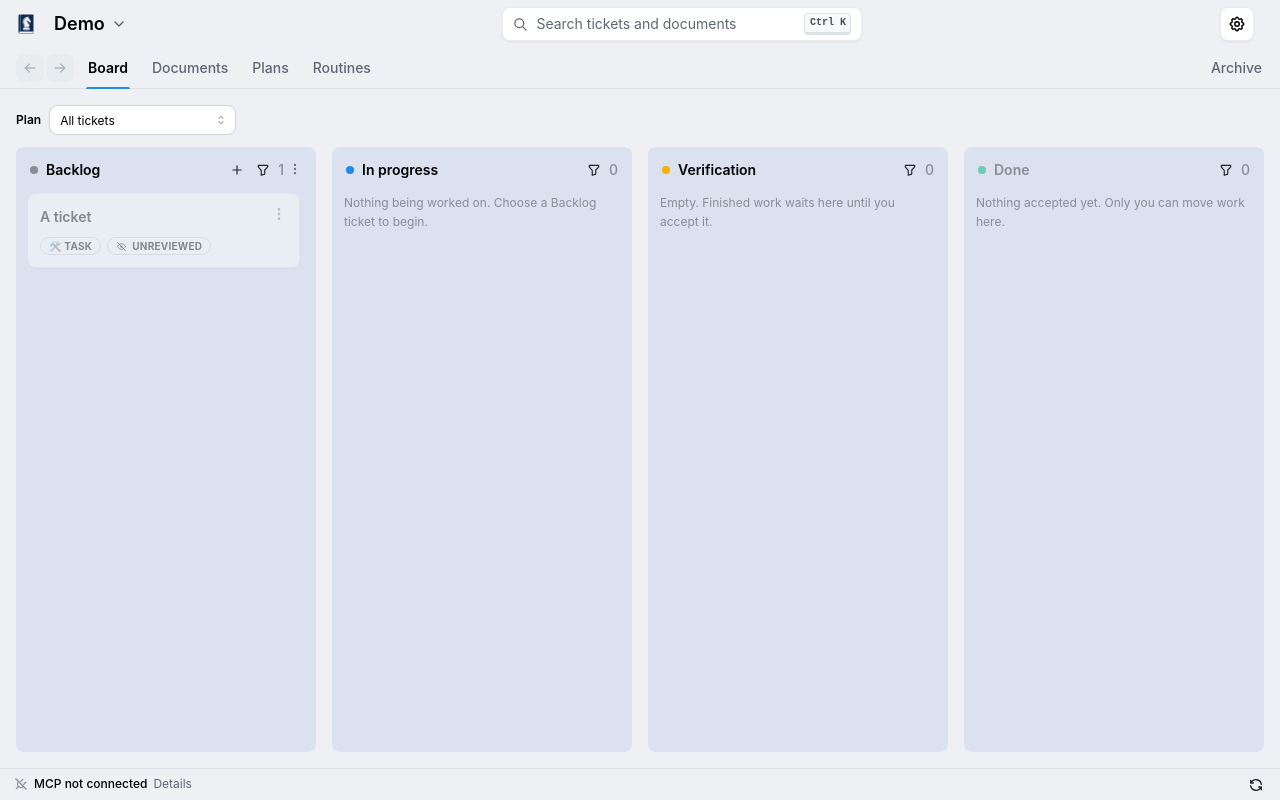
Test: choosing a type › says which one is current, as a choice rather than a completion
The image size is (1280, 800).
Step 1. Click the text "A ticket" → (66, 216), box [40, 208, 91, 225]
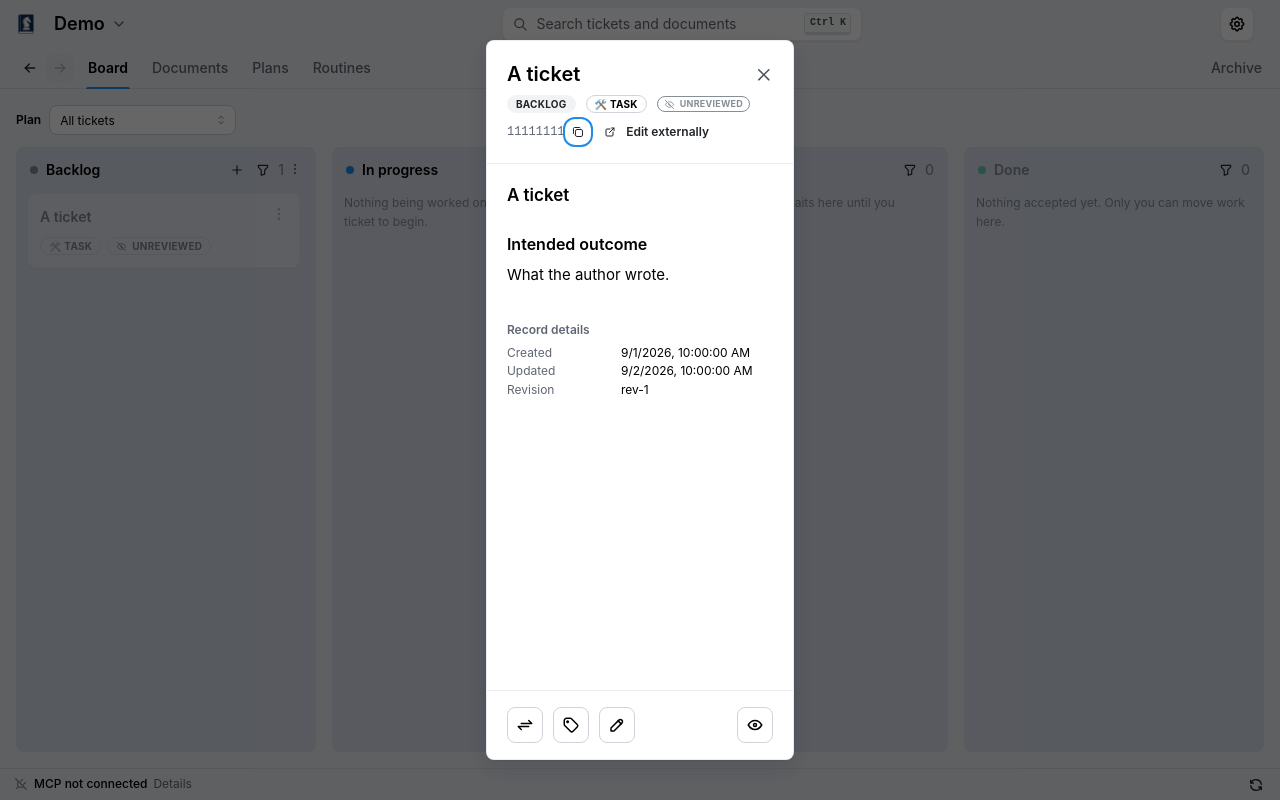
Step 2. Click the button named "type" → (571, 725), box [553, 707, 589, 743]
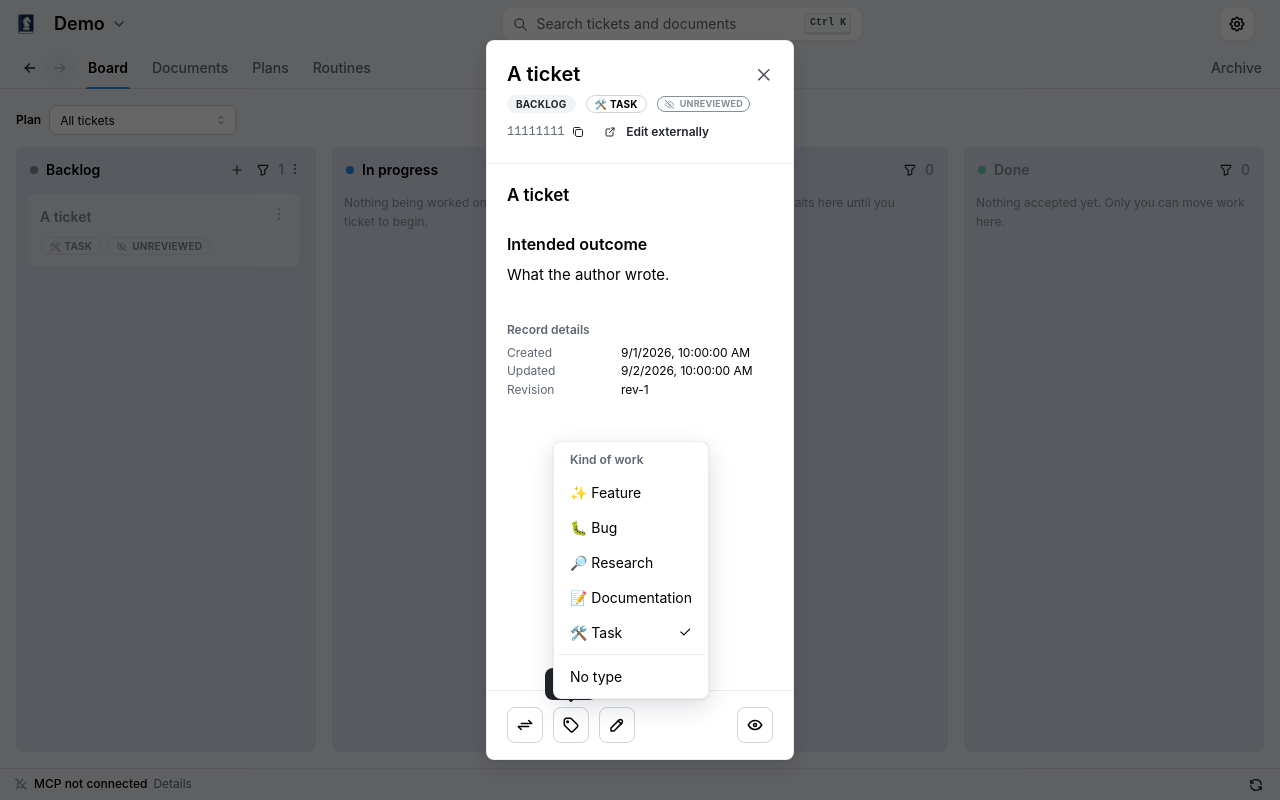
expect the menu item "🛠️ Task" is shown: met, box [558, 615, 704, 650]
